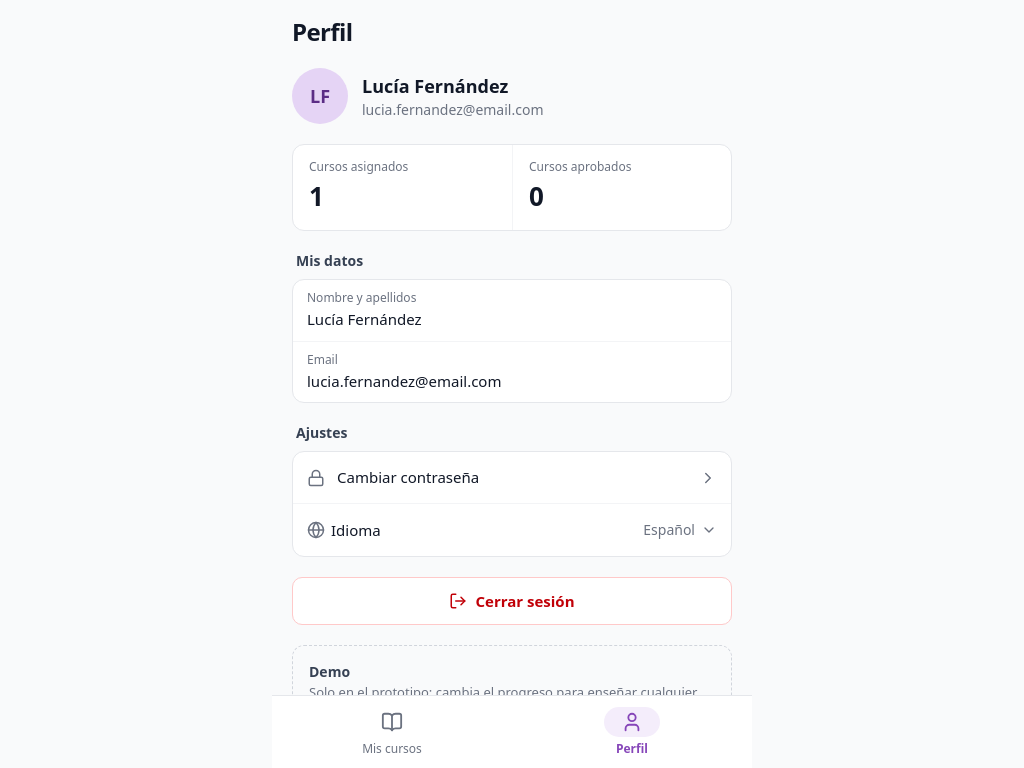
Test: Perfil › cerrar sesión pide confirmación y vuelve al login
Click the button "Cerrar sesión". click: (512, 601)
box: [292,577,732,625]
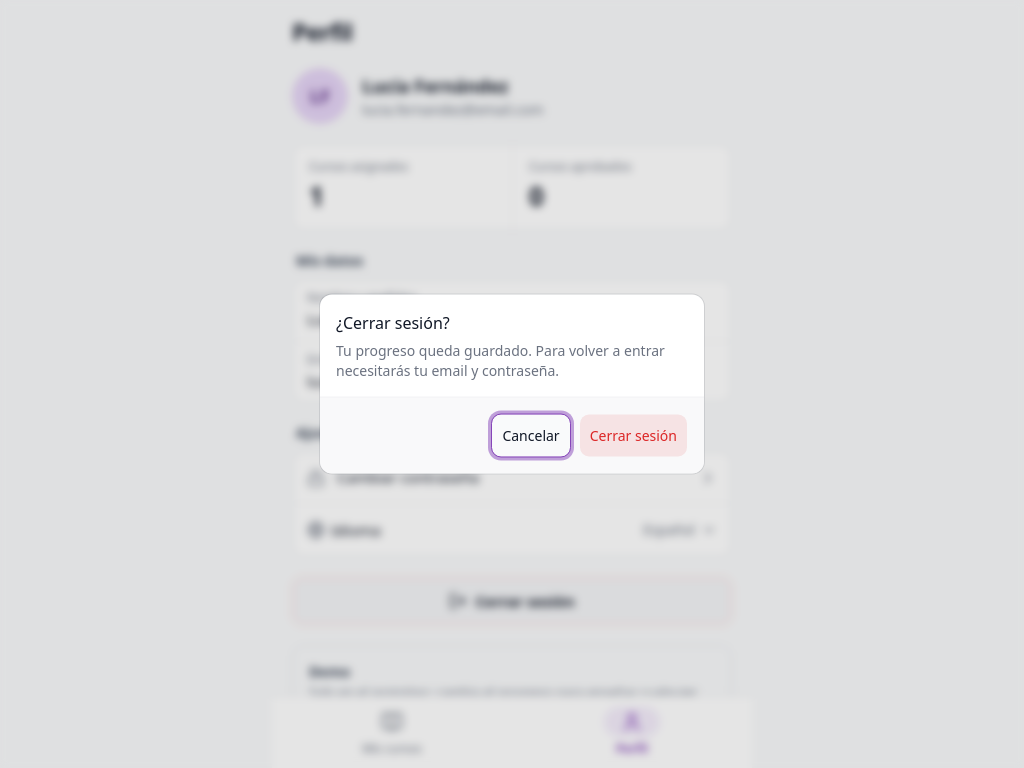
Click the button "Cerrar sesión". click: (633, 436)
box: [579,414,688,458]
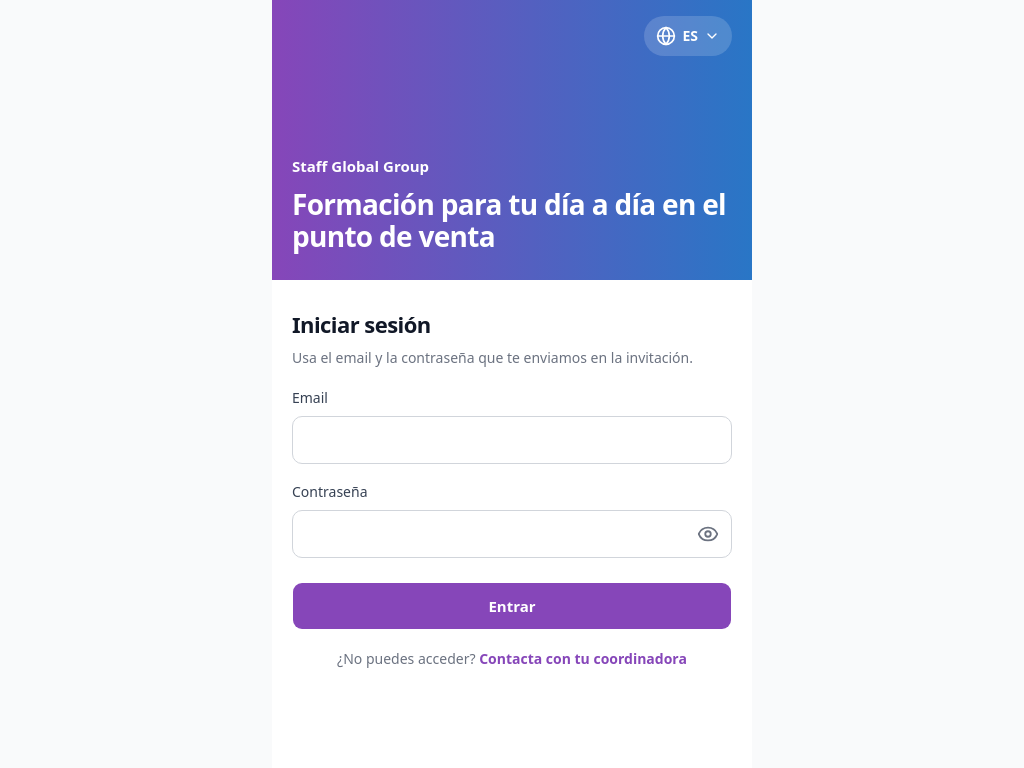
Check: the heading "Iniciar sesión" is shown, box [292,309,431,339]
